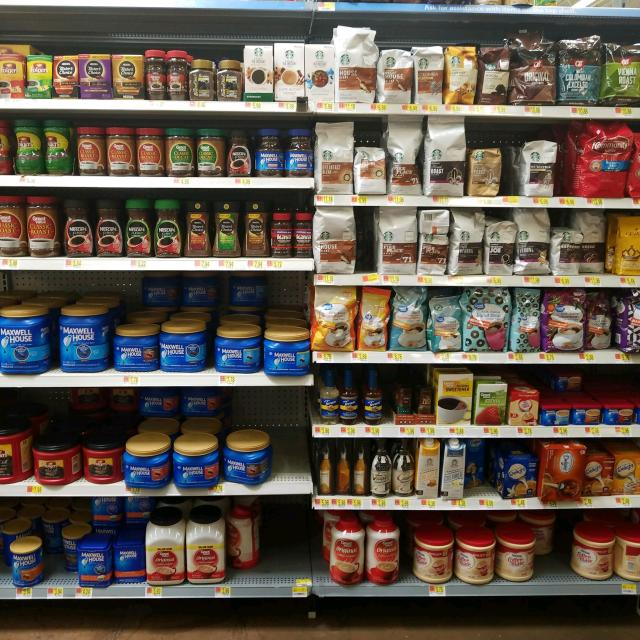empty: (262, 501, 326, 581), (262, 416, 312, 481)
